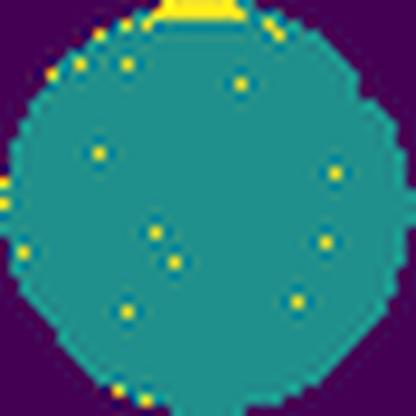Edge-Loc: (136, 0, 252, 31)
